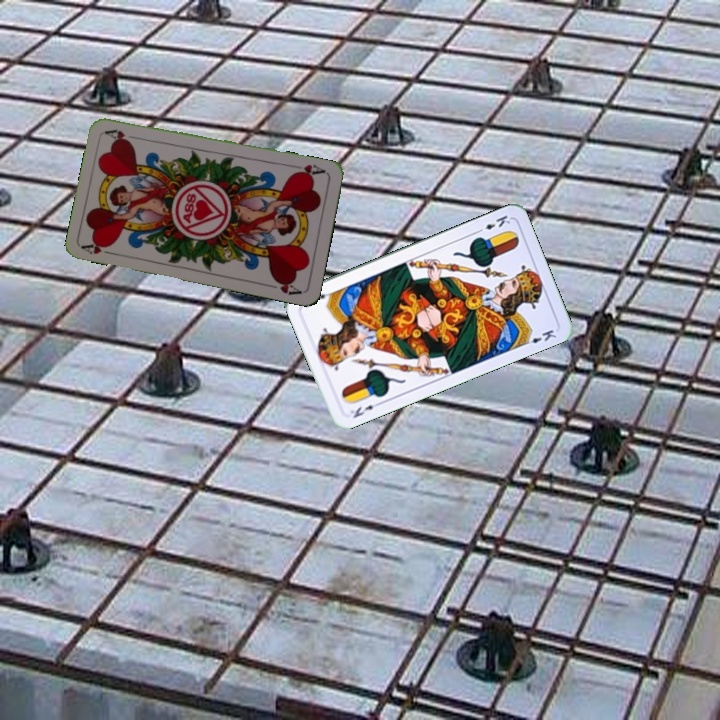EK: (473, 211, 513, 235), (346, 398, 384, 421)
HA: (79, 237, 119, 258), (288, 160, 328, 180)
